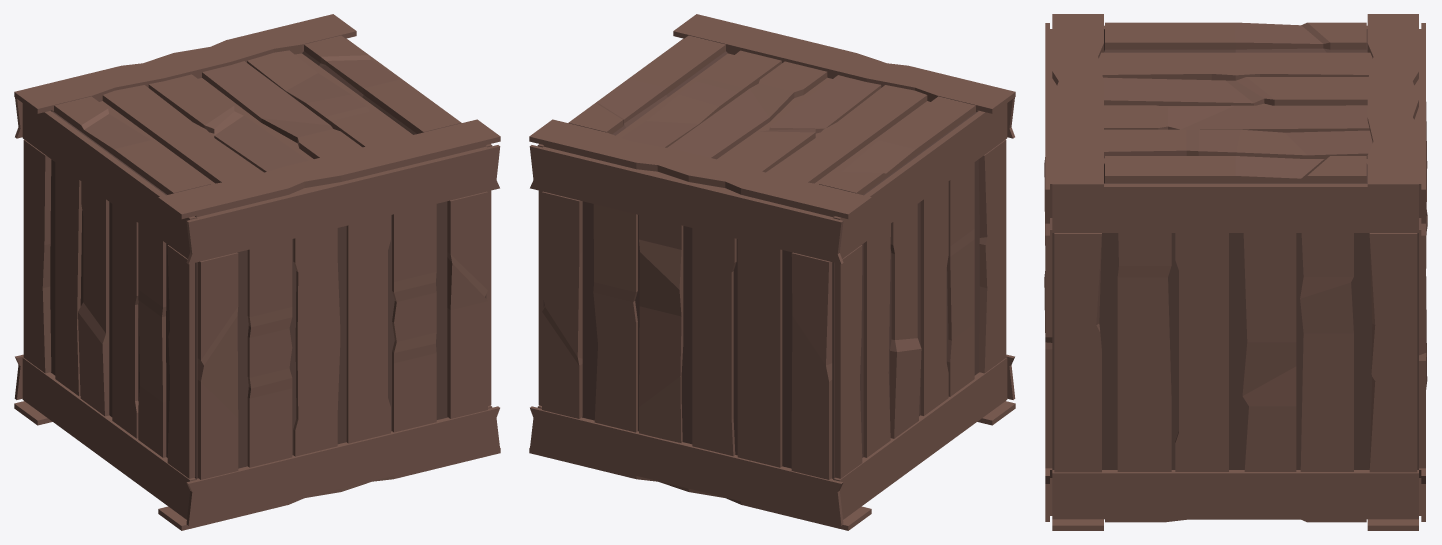
The model's file is crate.glb.
3 renders of one model, left to right at view 1: azimuth 30°, elevation 25°; view 2: azimuth 150°, elevation 25°; view 3: azimuth 270°, elevation 25°, orthographic. The views are drawn at different scales.
Parts seen in each view (by area): view 1: Crate; view 2: Crate; view 3: Crate.
Part boxes in pixels (<box>): Crate: <box>14,14,500,530</box>; Crate: <box>529,14,1015,530</box>; Crate: <box>1044,14,1427,530</box>.
Bounding box in the file's own units: 1.38 × 1.31 × 1.31.
